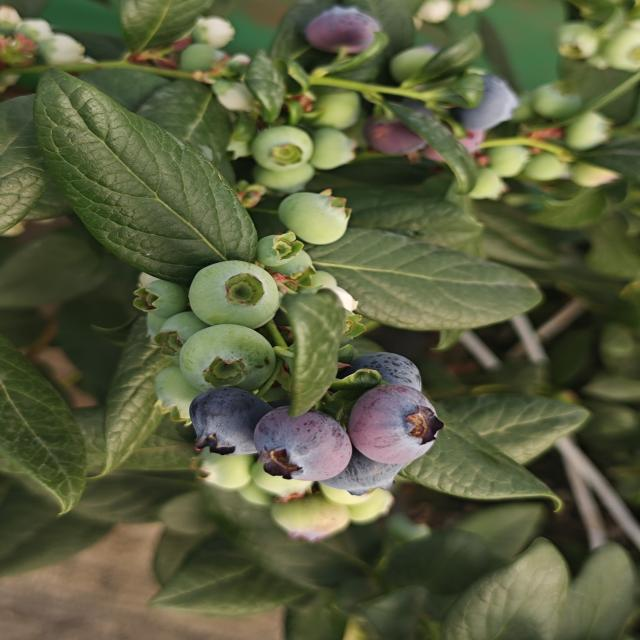ripe: (345, 382, 446, 468), (250, 404, 354, 484), (185, 385, 274, 459), (313, 448, 411, 498), (301, 6, 383, 58), (345, 348, 428, 396), (464, 74, 516, 125)
